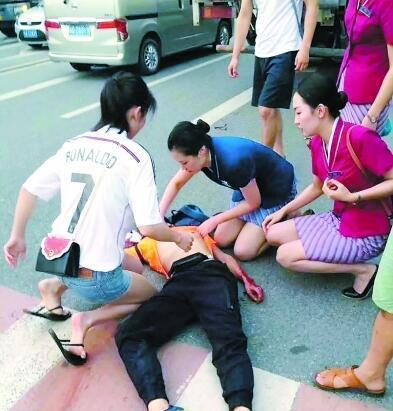Fall-Detected: (110, 203, 271, 411)
